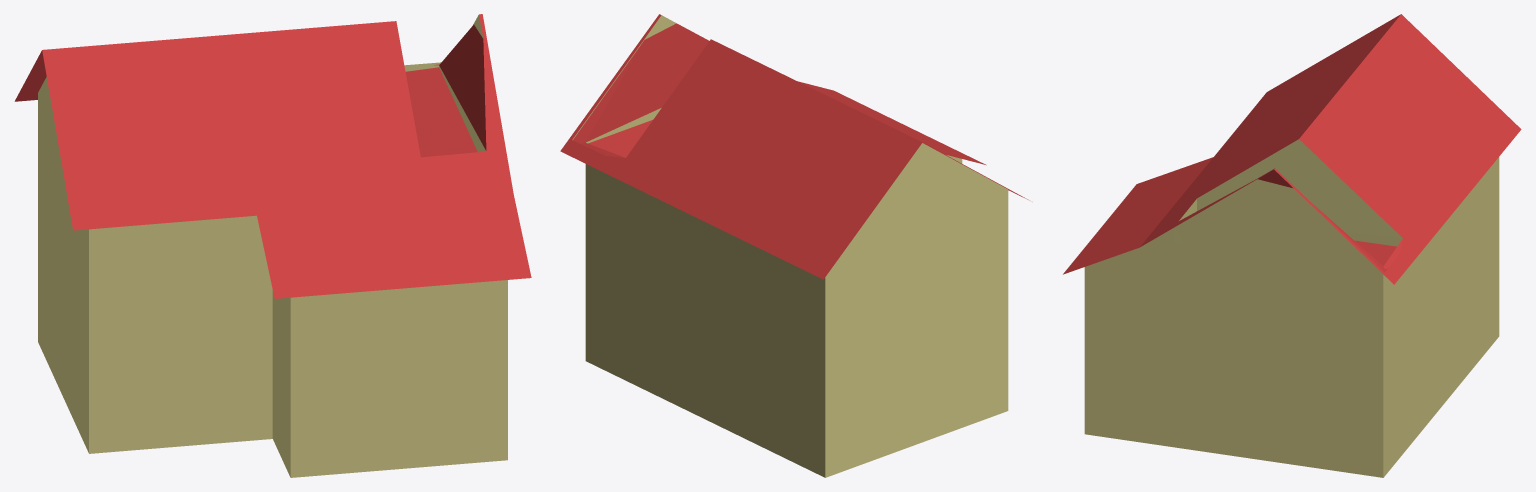
3 renders of one model, left to right at view 1: azimuth 30°, elevation 25°; view 2: azimuth 150°, elevation 25°; view 3: azimuth 270°, elevation 25°, orthographic. The views are drawn at different scales.
Bounding box in the file's own units: 19.64 × 19.77 × 14.26.
